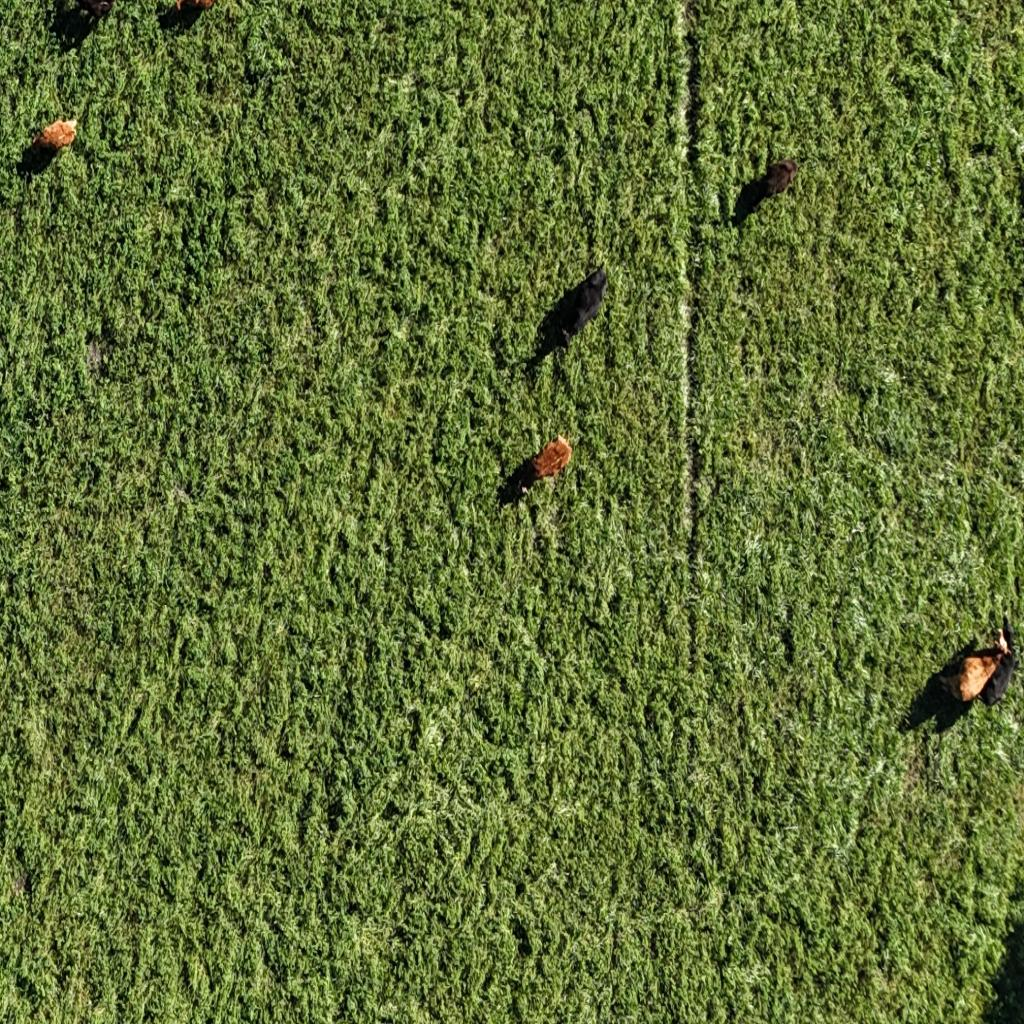cow: (904, 608, 1017, 731), (542, 264, 612, 361), (498, 423, 574, 509), (731, 155, 800, 230), (24, 111, 85, 177), (54, 1, 110, 45), (511, 330, 558, 380), (165, 0, 219, 32)
